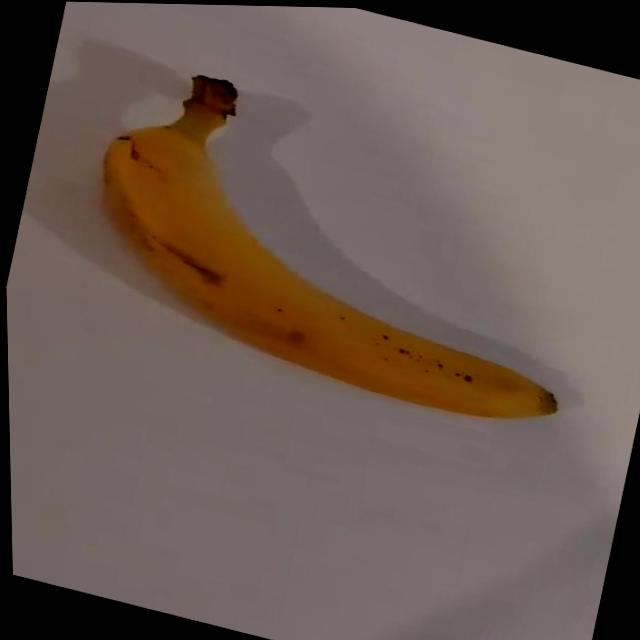Banana: (65, 79, 603, 436)
